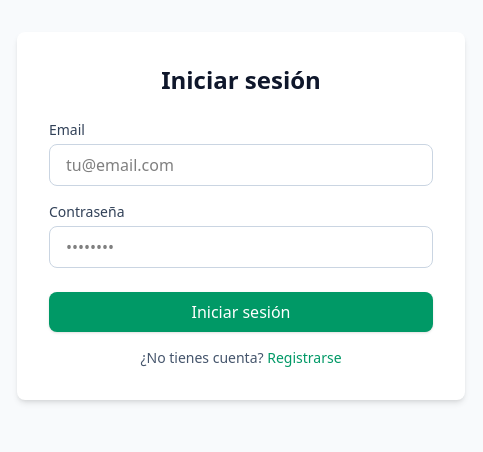
Test: <Login /> › debe mostrar el mensaje de error cuando authLogin falla
In the field labelled "Email": x=241, y=165 [49, 144, 433, 186], type "juan@example.com"
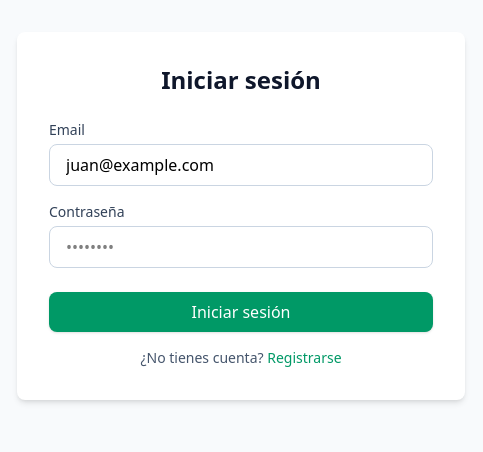
In the password field labelled "Contraseña": x=241, y=247 [49, 226, 433, 268], type "123456"
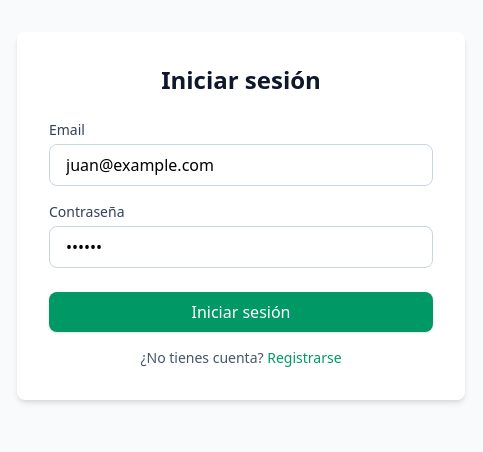
Click the button "Iniciar sesión": x=241, y=312 [49, 292, 433, 332]
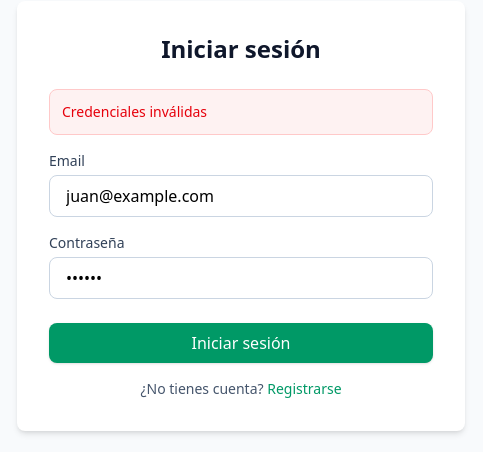
Result: the text "Credenciales inválidas" is shown at [62, 102, 207, 121]
